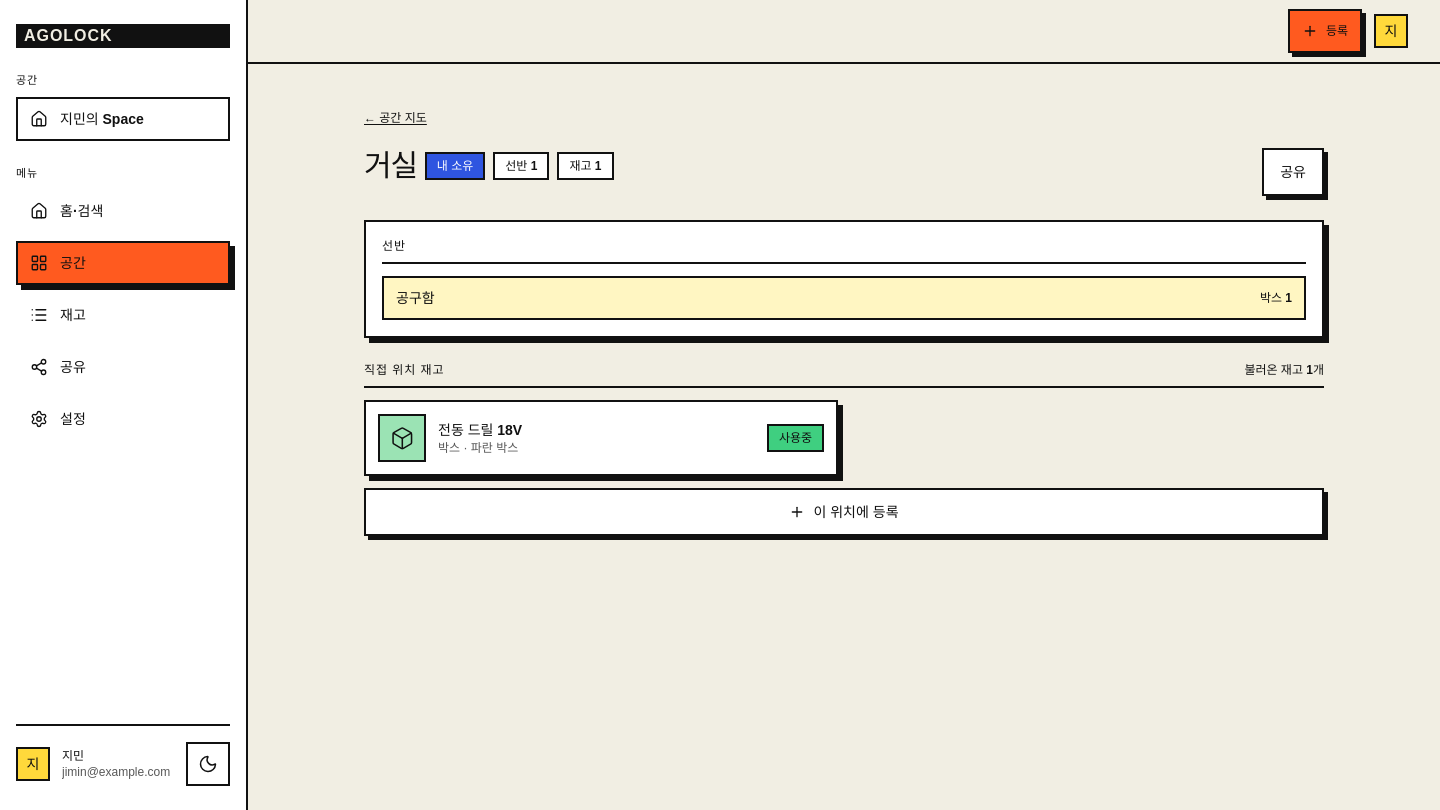
Test: Room 상세 › Room에서 바로 공유 초대를 보낸다
Step 1. Click the button "공유" → (1293, 172), box x1=1262 y1=148 x2=1324 y2=196
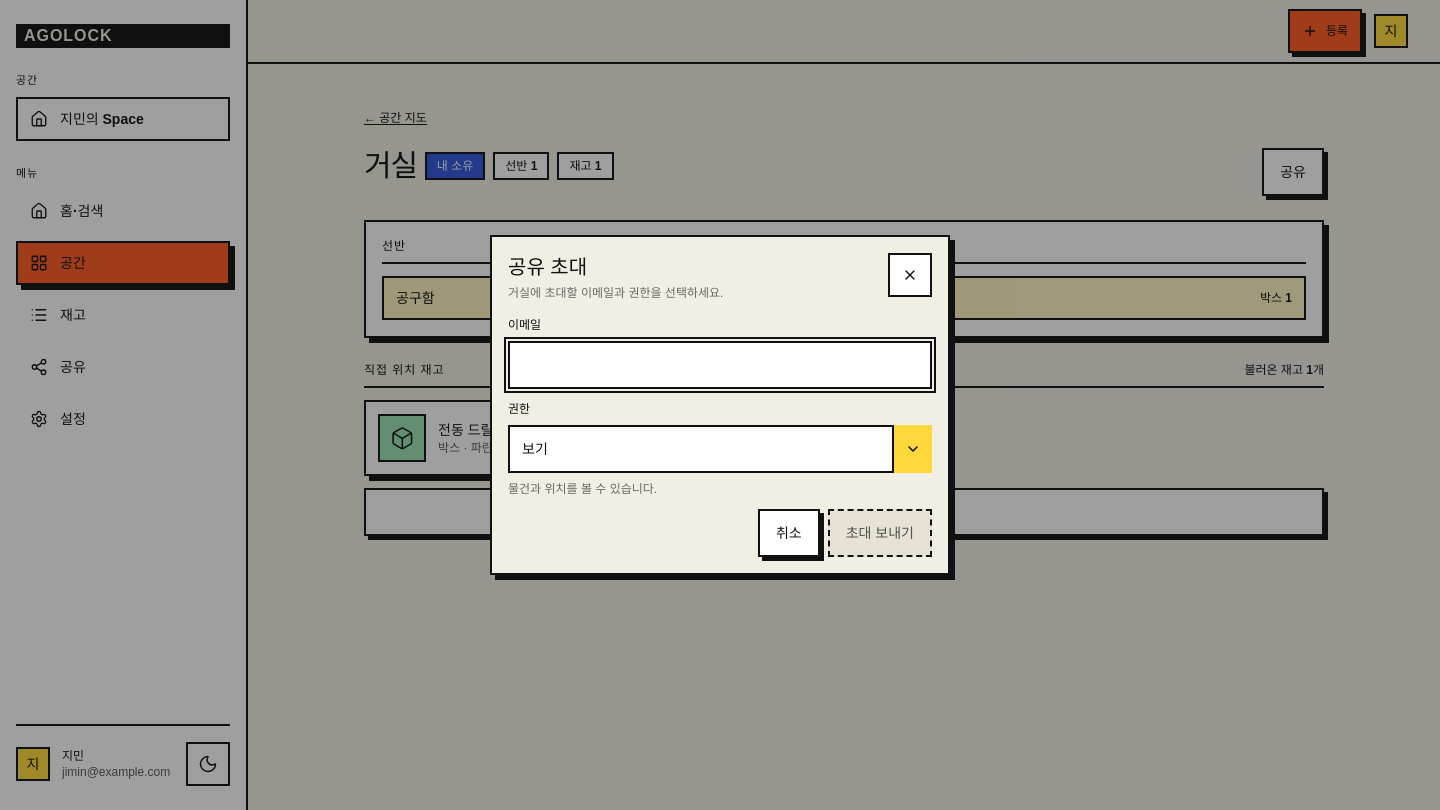
Step 2. Type "friend@example.com" into the field labelled "이메일" → (720, 365), box x1=508 y1=341 x2=932 y2=389
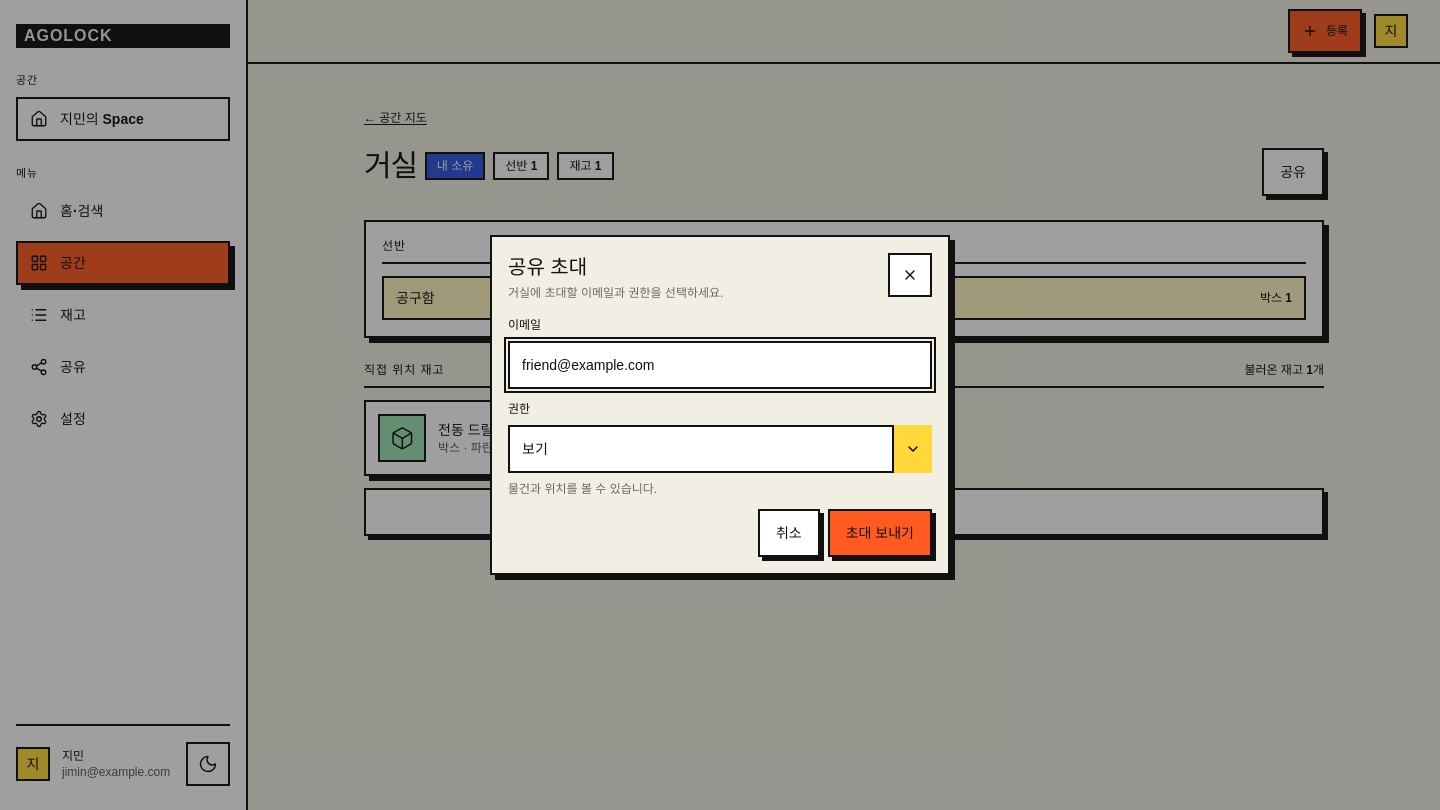
Step 3. Select "관리" in the dropdown named "공유 권한" → (720, 449), box x1=508 y1=425 x2=932 y2=473
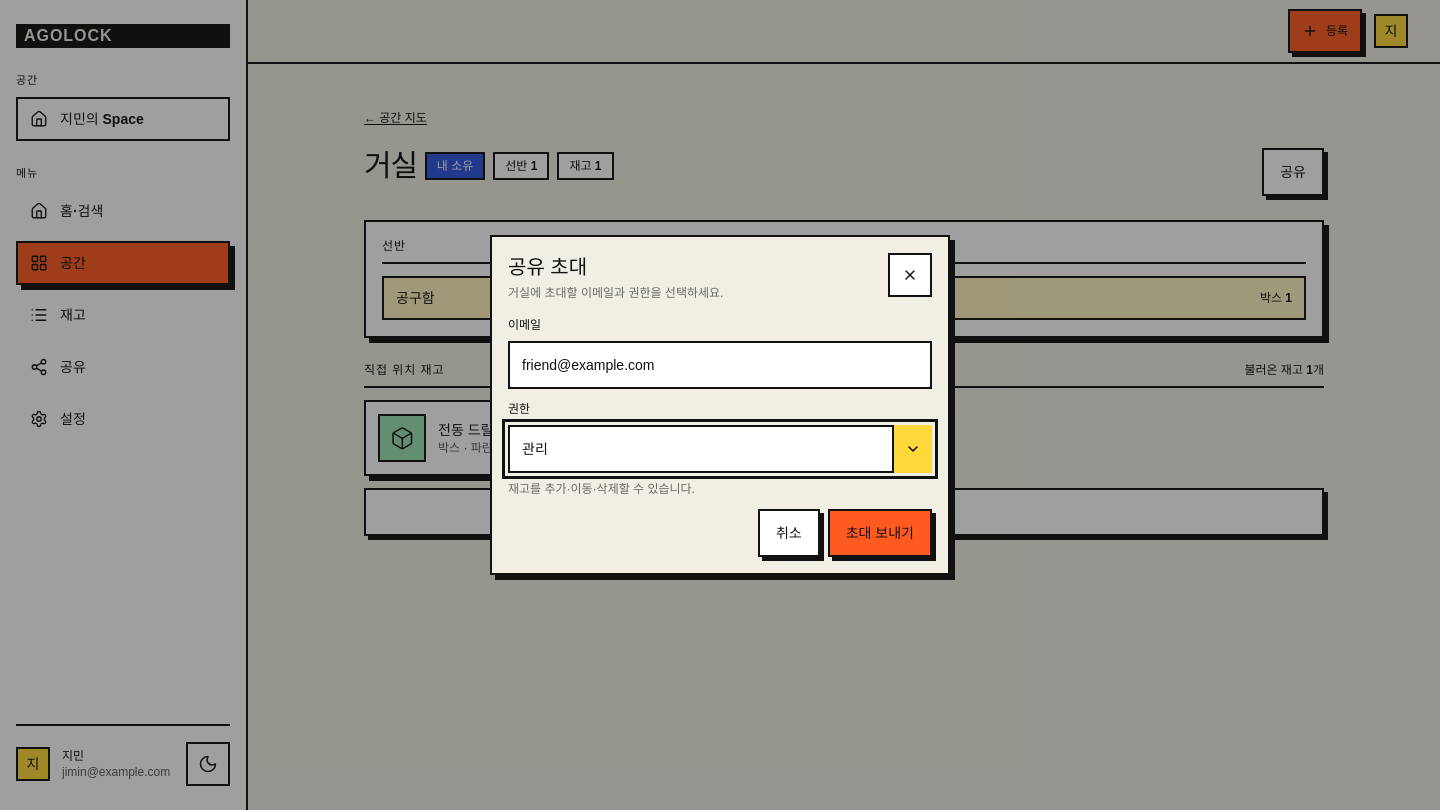
Step 4. Click the button "초대 보내기" → (880, 533), box x1=828 y1=509 x2=932 y2=557
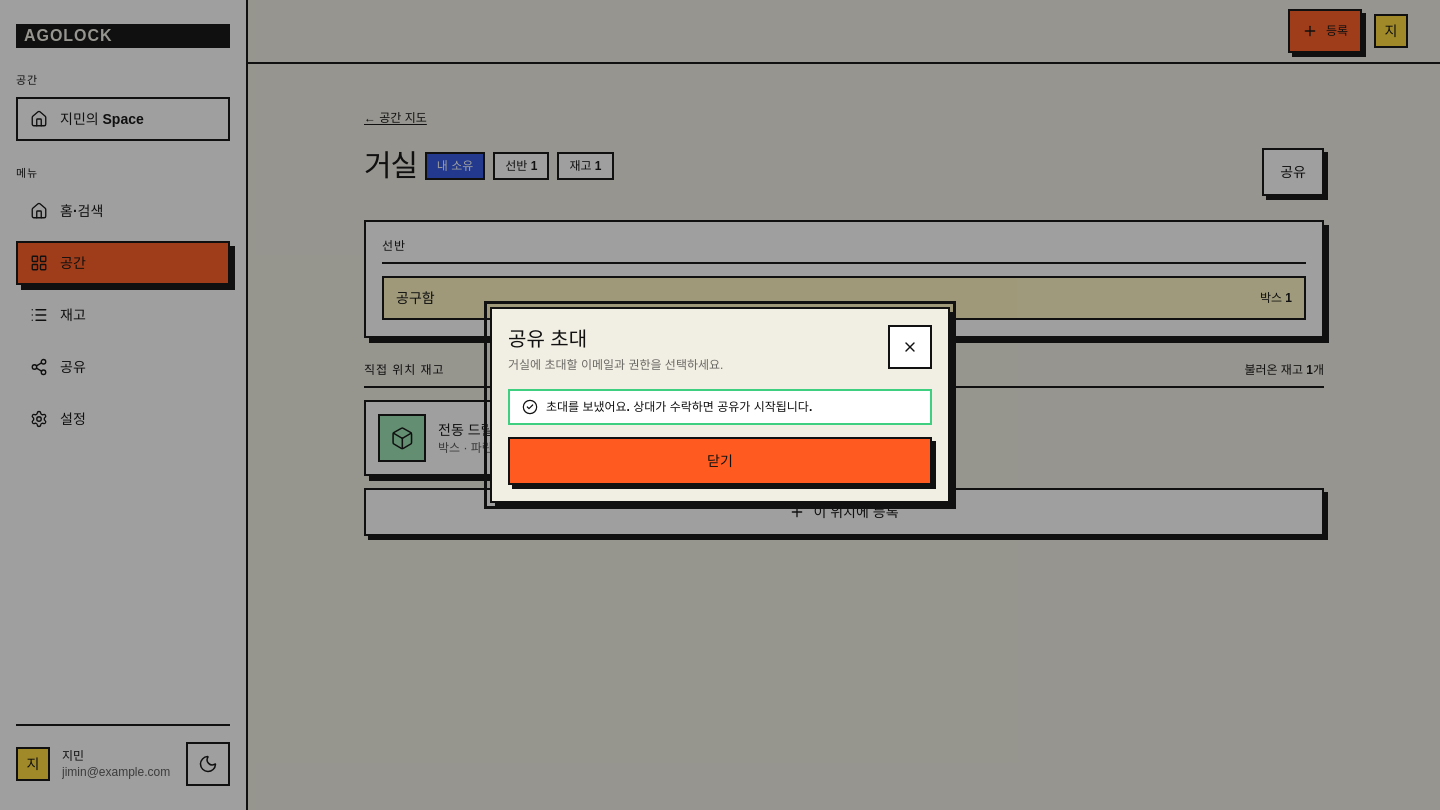
Now the dialog is shown, box x1=490 y1=307 x2=950 y2=503
Now the text "초대를 보냈어요. 상대가 수락하면 공유가 시작됩니다." is shown, box x1=546 y1=400 x2=812 y2=414
